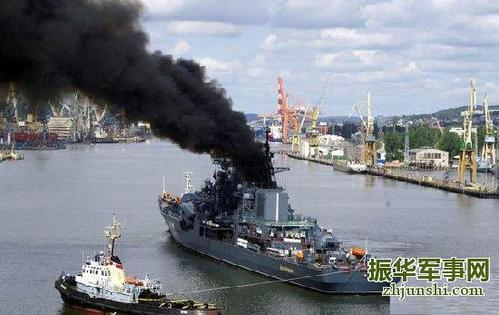smoke: (1, 1, 276, 182)
